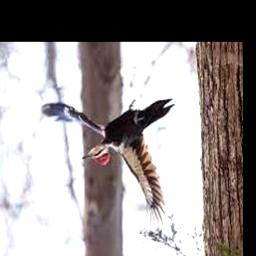Woodpecker: (41, 99, 174, 228)
